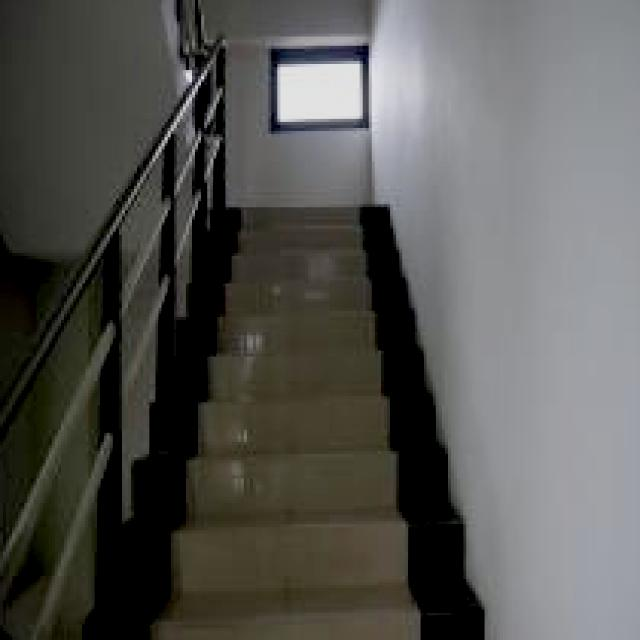upstair: (220, 202, 434, 640)
